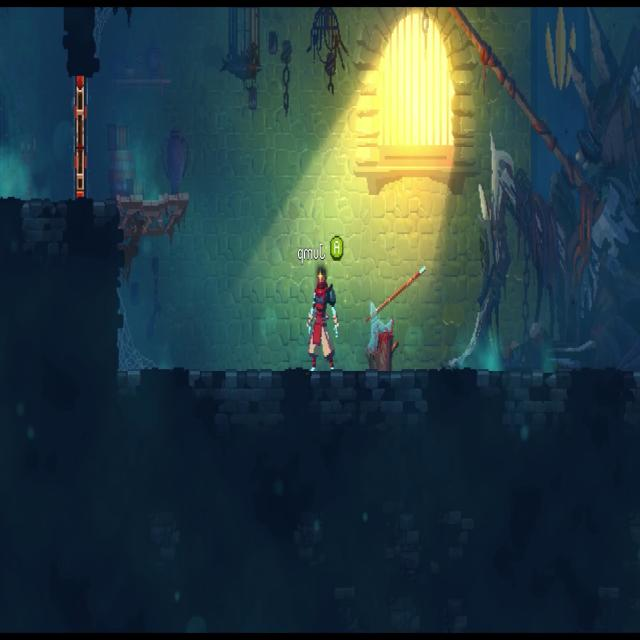agents: (305, 272, 336, 374)
door_regular: (74, 71, 85, 200)
wood_floor: (116, 190, 190, 243)
